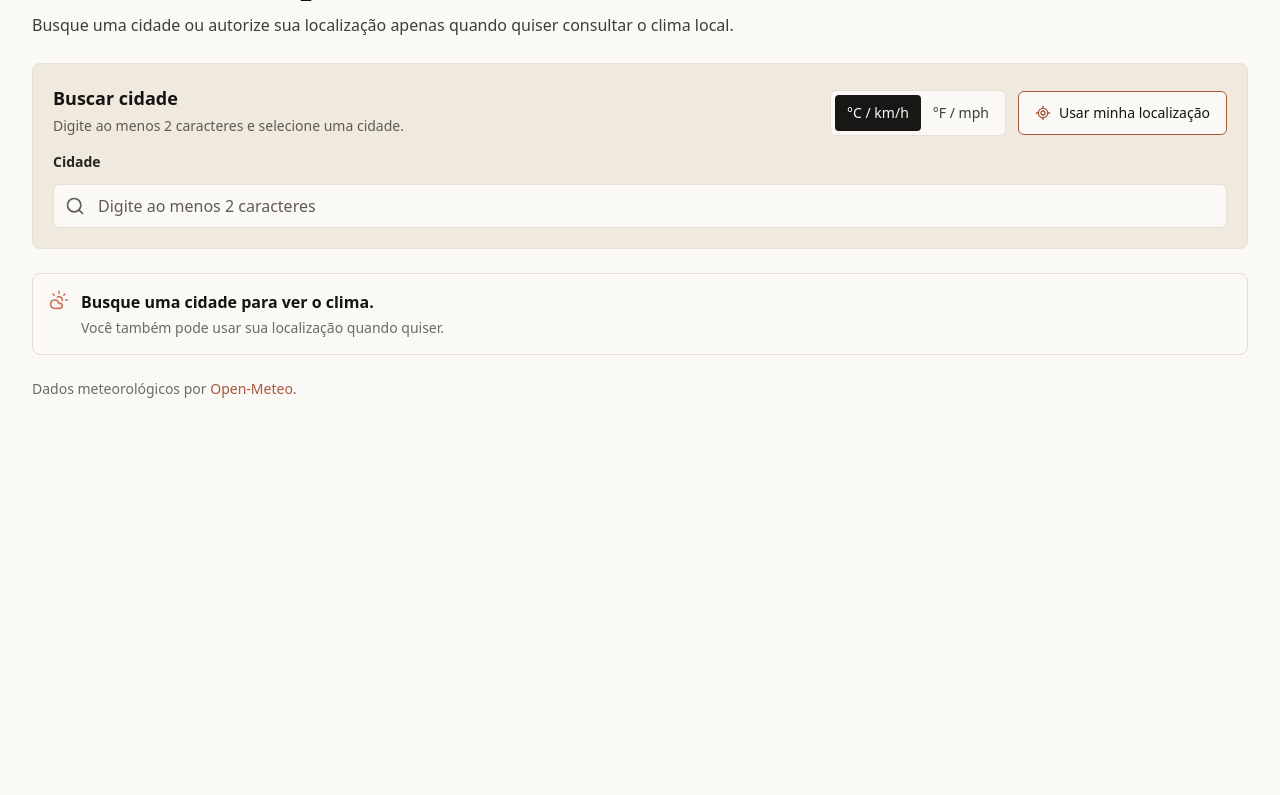
WeatherPage › should search, select a city and render weather
Type "Curitiba" into the dropdown named "Buscar cidade".
click(640, 206); type("Curitiba")  # box [53,184,1227,228]
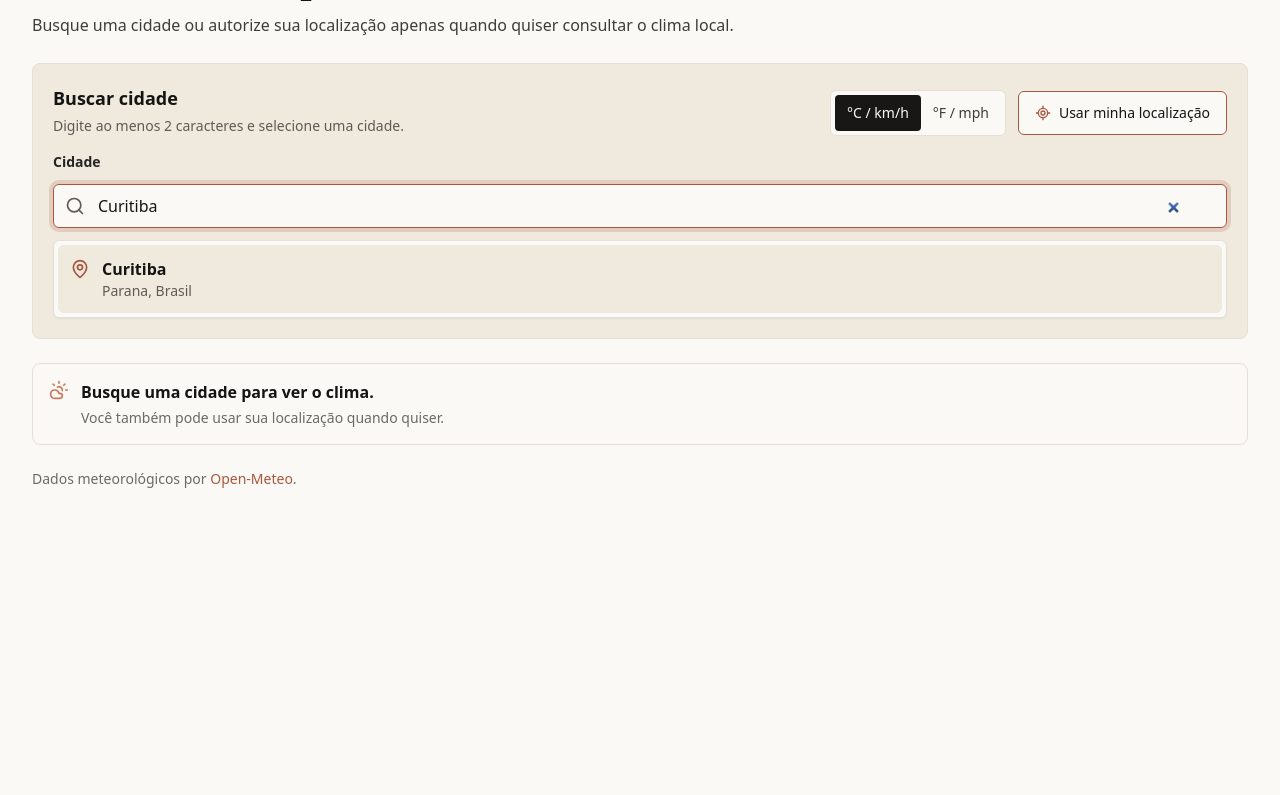
Click the option with aria-label "Selecionar Curitiba, Parana, Brasil".
click(134, 269)  # box [58,245,1222,313]
(page scrolled)
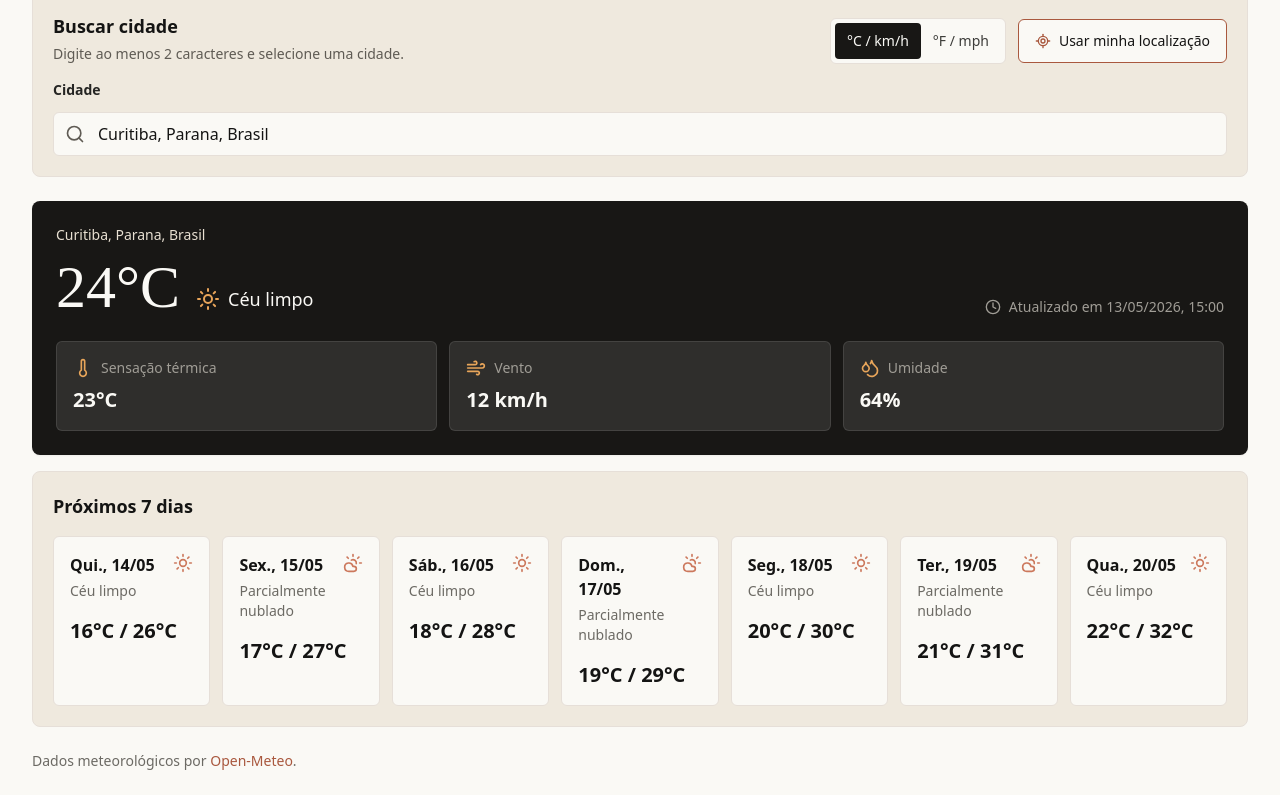
expect the dropdown named "Buscar cidade" holds "Curitiba, Parana, Brasil": met, box [53,112,1227,156]
expect the heading "24°C" is shown: met, box [56,257,180,317]
expect the heading "Próximos 7 dias" is shown: met, box [53,494,193,518]
